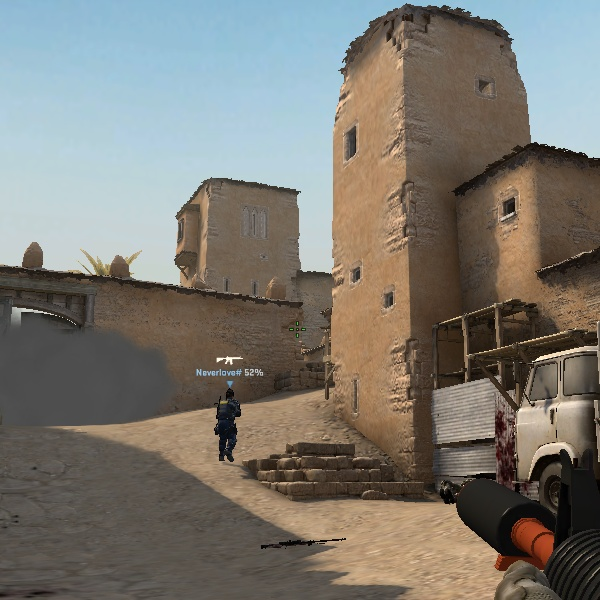ct_body: (214, 389, 242, 463)
ct_head: (226, 388, 235, 403)
